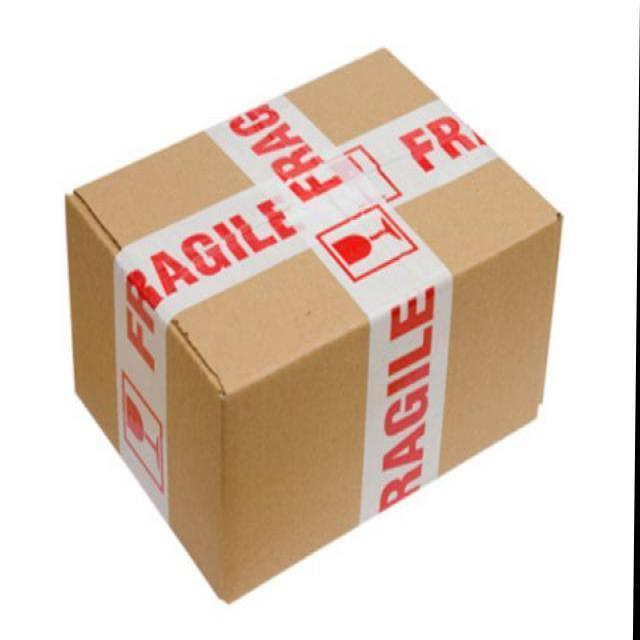box: (60, 39, 568, 612)
